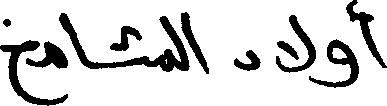X: (315, 0, 359, 92), (0, 14, 38, 105), (277, 10, 313, 86), (45, 8, 65, 105), (67, 11, 87, 102), (361, 7, 386, 72), (189, 11, 208, 78), (172, 7, 187, 75), (234, 45, 258, 75), (161, 11, 170, 76), (140, 30, 149, 71)
